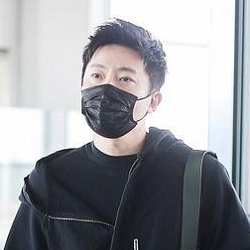mask: (78, 60, 146, 138)
